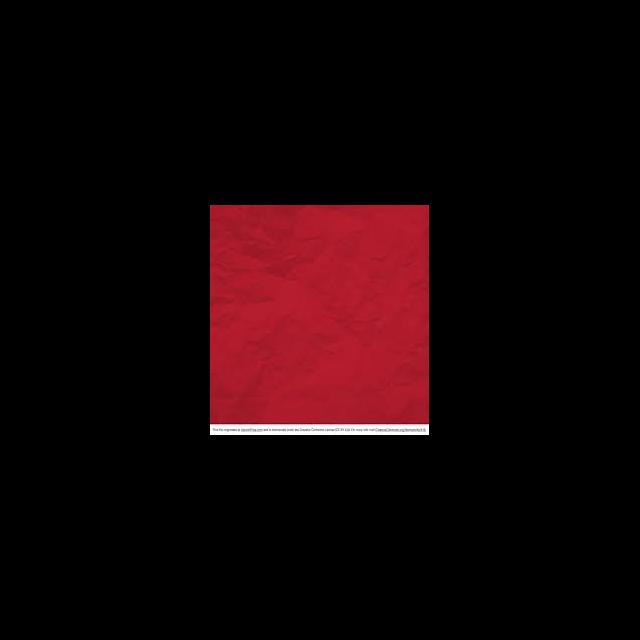paper: (210, 205, 428, 422)
